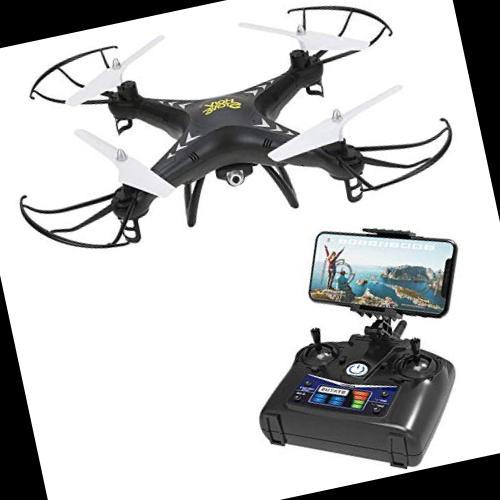drone: (0, 0, 475, 296)
